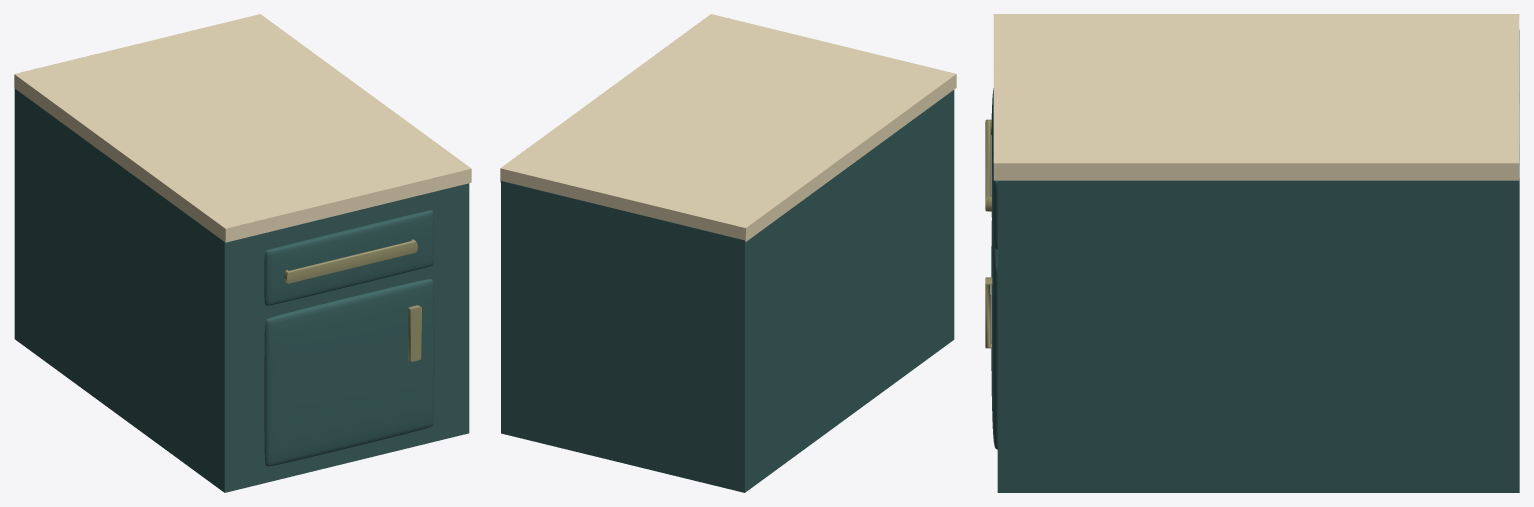
Rendered from mesa2.fbx.
The picture shows the model from 3 angles, left to right: view 1: azimuth 30°, elevation 25°; view 2: azimuth 150°, elevation 25°; view 3: azimuth 270°, elevation 25°; orthographic projection. The views are drawn at different scales.
Parts seen in each view (by area): view 1: mesa2; view 2: mesa2; view 3: mesa2.
Boxes of the visible parts, x1=… form: mesa2: x1=14, y1=14, x2=471, y2=492; mesa2: x1=500, y1=14, x2=956, y2=492; mesa2: x1=985, y1=14, x2=1519, y2=492.
Bounding box in the file's own units: 135 × 140 × 205.
